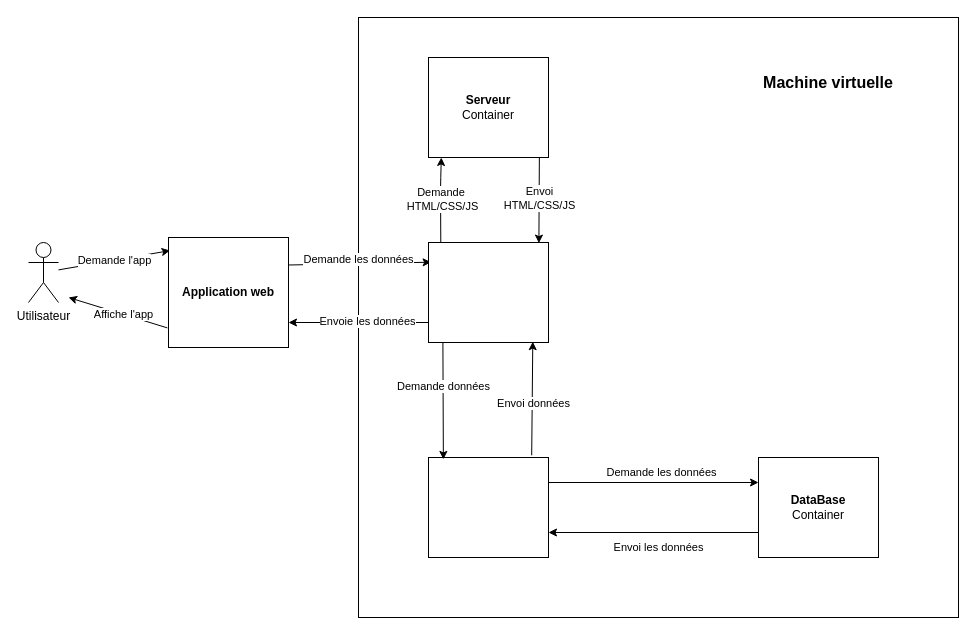
Image size: 976x635. Some labels were removed from this diagram. The centre of each missing label's shape, as x and y in pixels:
Reverse Proxy Container: (x=488, y=292)
Serveur API container: (x=488, y=507)
